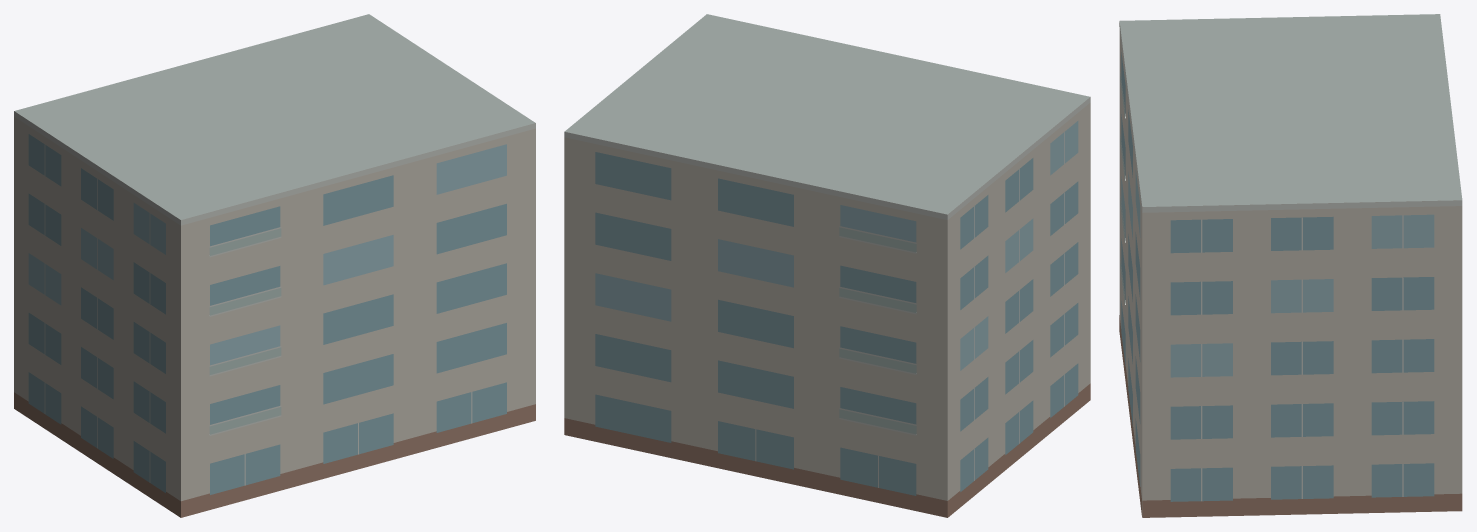
Rendered from survey-upis-32979155.glb.
3 renders of one model, left to right at view 1: azimuth 30°, elevation 25°; view 2: azimuth 150°, elevation 25°; view 3: azimuth 270°, elevation 25°, orthographic. The views are drawn at different scales.
Visible parts, largest first — view 1: survey-upis-32979155.tmp; view 2: survey-upis-32979155.tmp; view 3: survey-upis-32979155.tmp.
Part boxes in pixels (bbox=[...]): survey-upis-32979155.tmp: bbox=[14, 14, 535, 517]; survey-upis-32979155.tmp: bbox=[564, 14, 1090, 517]; survey-upis-32979155.tmp: bbox=[1119, 14, 1462, 517].
Bounding box in the file's own units: 17.6 × 13.2 × 13.21.
